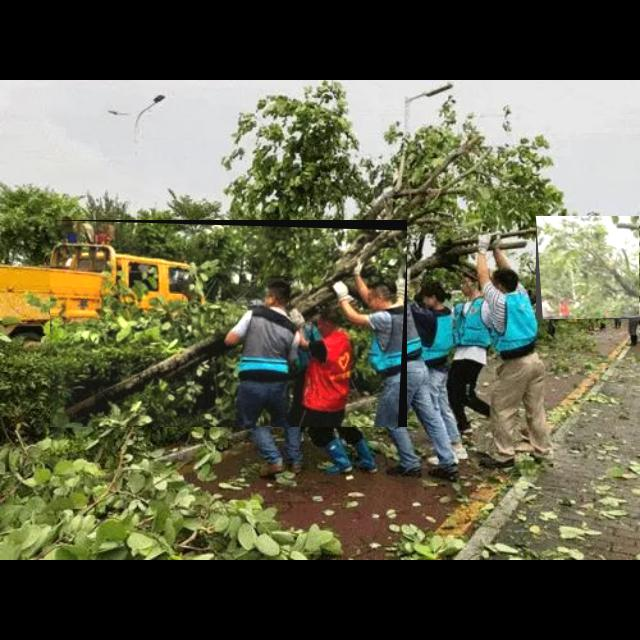Fallen Tree: (50, 220, 408, 428), (536, 216, 640, 320)
